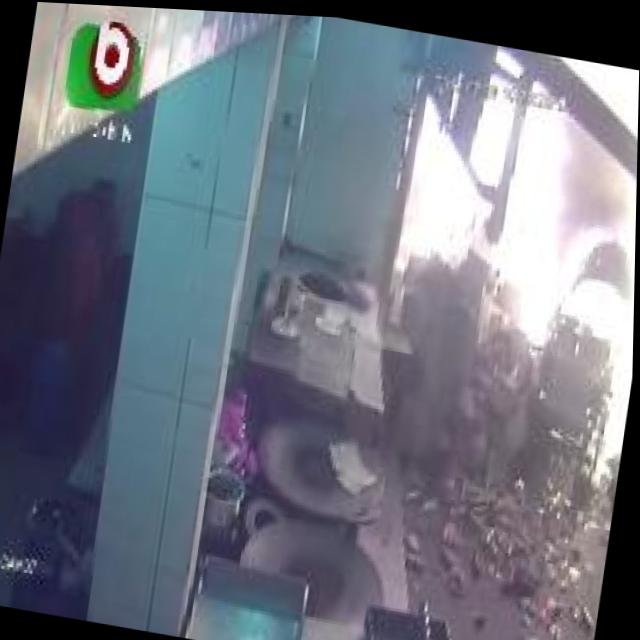fire: (389, 30, 633, 311), (505, 51, 639, 498)
